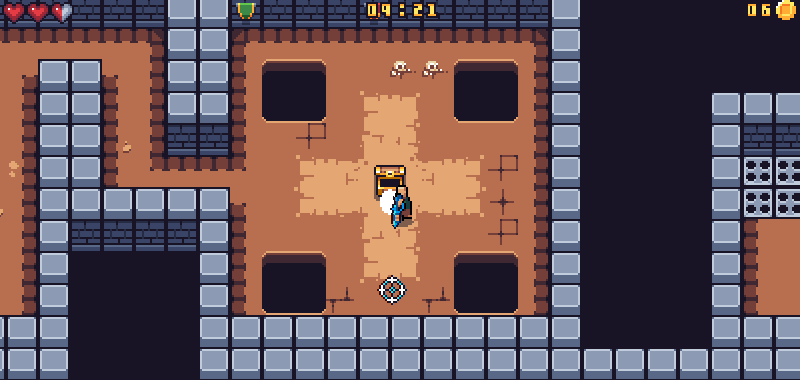trap_off: (742, 155, 800, 217)
treasury_open: (373, 163, 406, 199)
